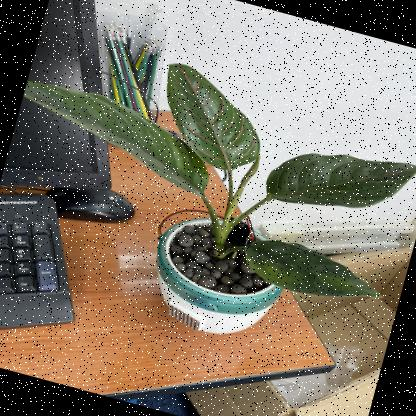Aglaonema: (0, 21, 415, 318)
